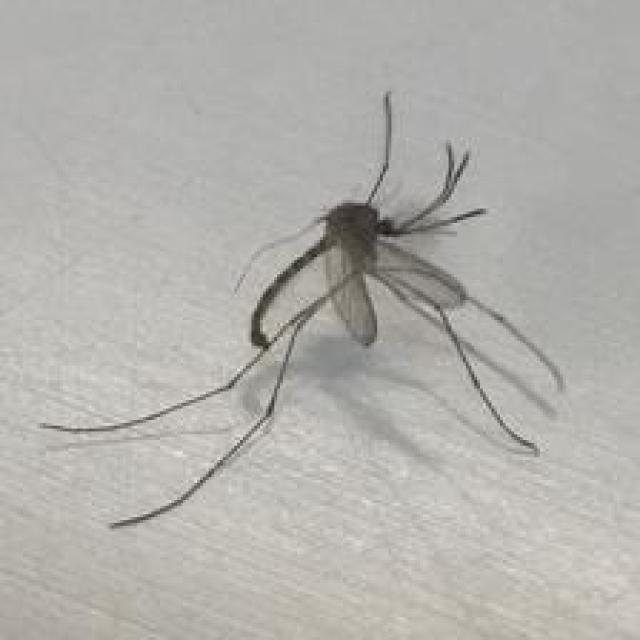Culex: (39, 89, 567, 532)
